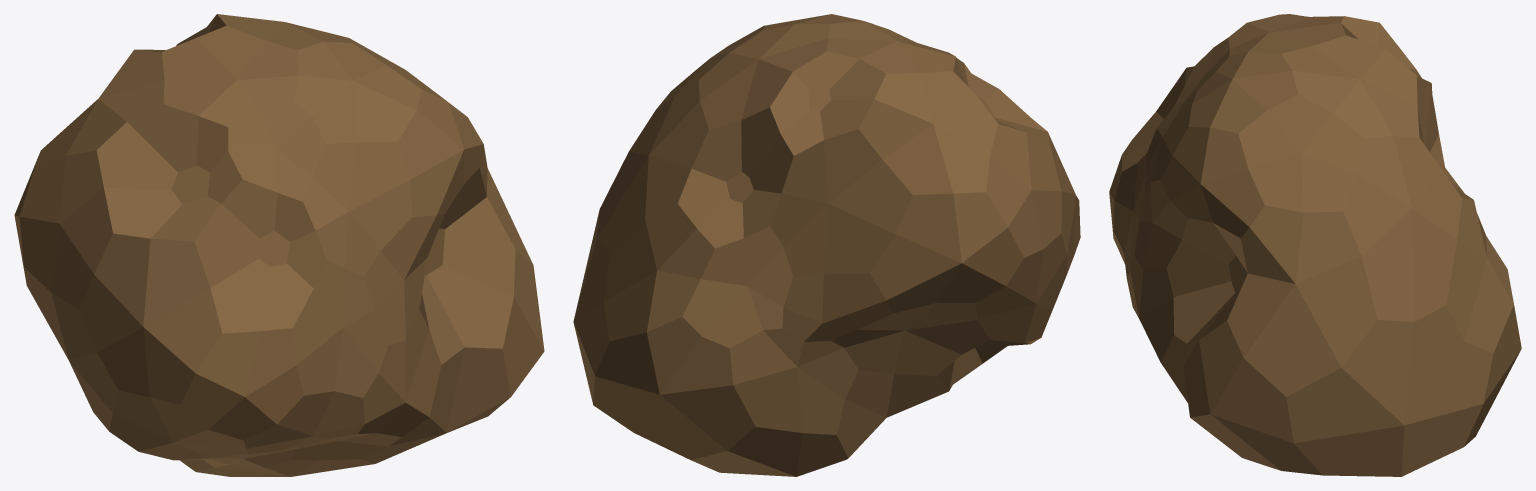
Rendered from Asteroide_3.fbx.
3 views of the same model, side by side, from view 1: azimuth 30°, elevation 25°; view 2: azimuth 150°, elevation 25°; view 3: azimuth 270°, elevation 25° (orthographic). The views are drawn at different scales.
Visible parts, largest first — view 1: Asteroide_3; view 2: Asteroide_3; view 3: Asteroide_3.
Part boxes in pixels (x1,y1,x2,y2): Asteroide_3: (14,14,544,476); Asteroide_3: (573,14,1080,476); Asteroide_3: (1109,14,1521,476).
Bounding box in the file's own units: 1116 × 1044 × 979.
